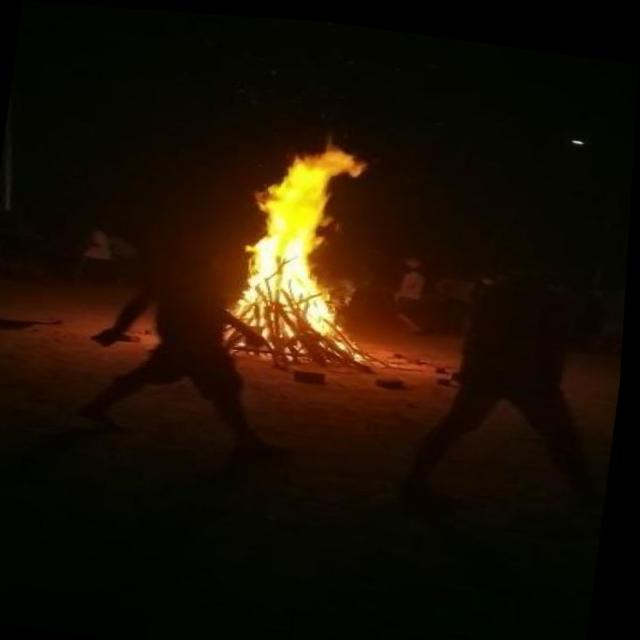fire: (214, 107, 396, 361)
